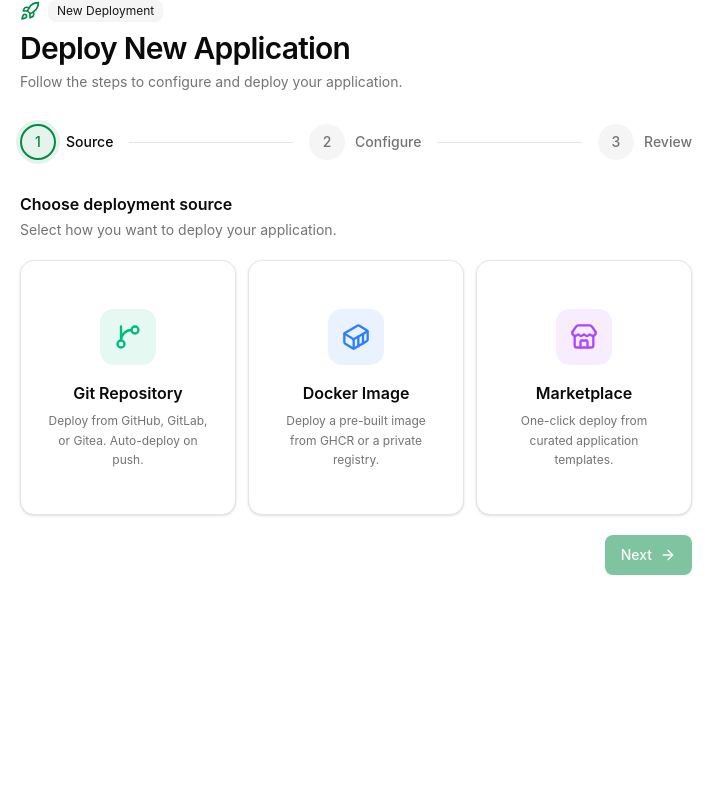
DeployWizard page › renders the review summary on step 3 with the values entered in step 2
The width and height of the screenshot is (713, 800).
Click the text "Git Repository" at (128, 393), box left=73, top=383, right=183, bottom=403
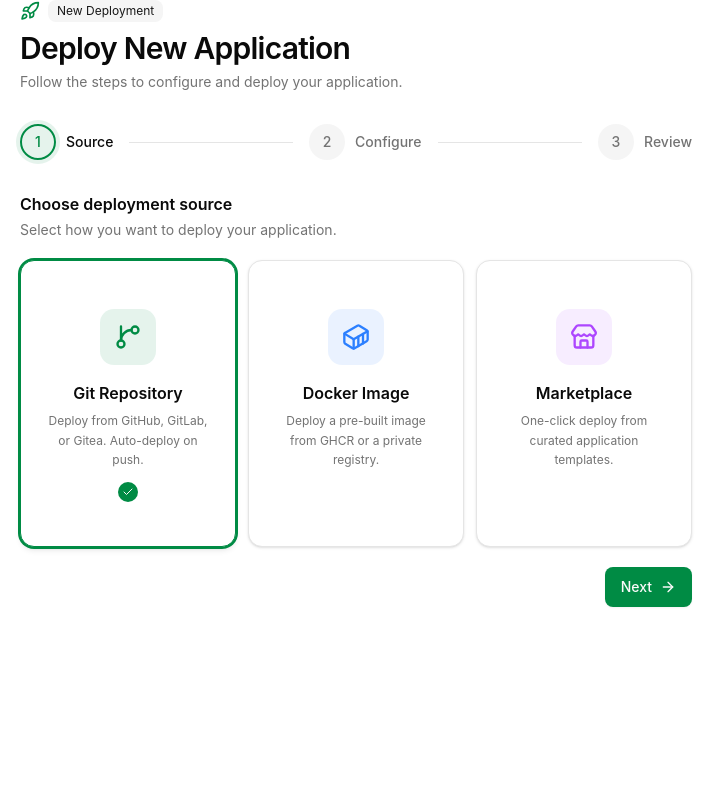
Click the button "Next" at (648, 586), box left=605, top=566, right=692, bottom=606
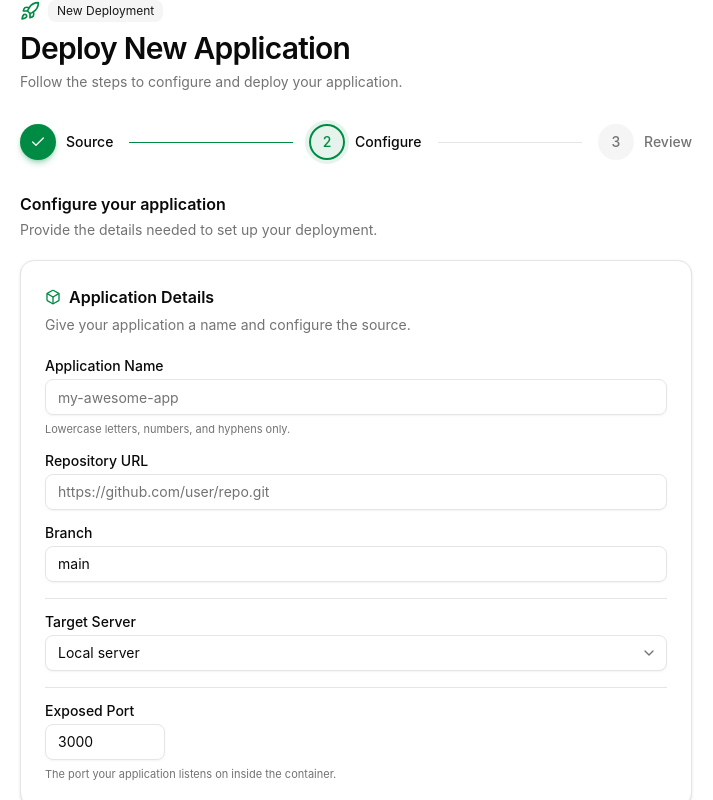
Type "review-app" into the field labelled "Application Name" at (356, 397), box left=45, top=379, right=667, bottom=415
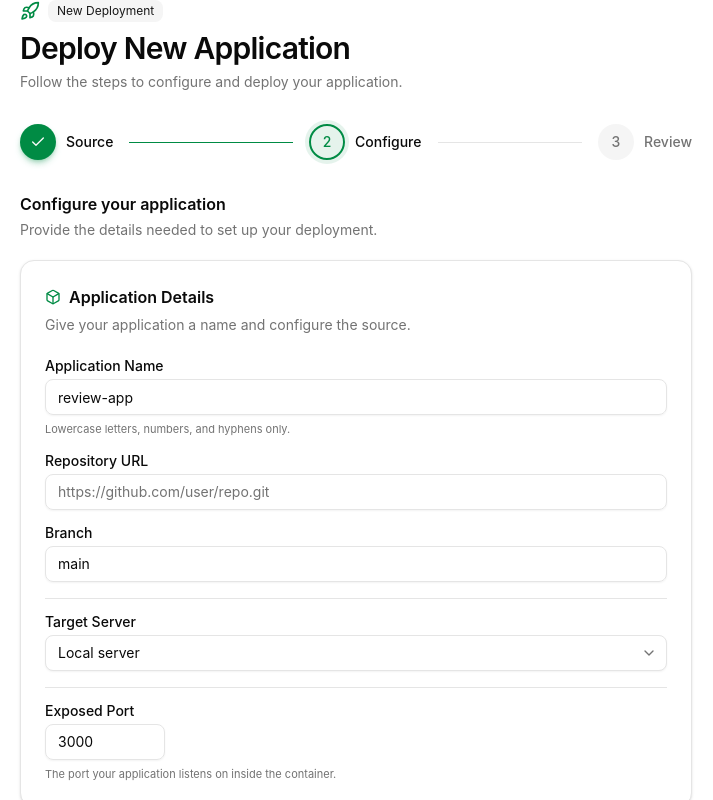
Type "https://github.com/example/review-app.git" into the field labelled "Repository URL" at (356, 492), box left=45, top=474, right=667, bottom=510
(page scrolled)
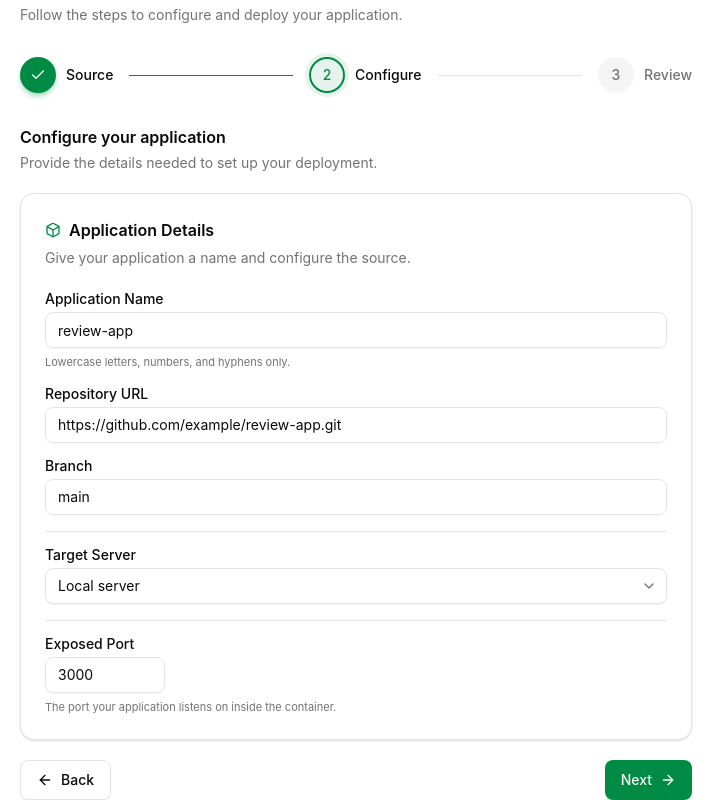
Click the button "Next" at (648, 780), box left=605, top=760, right=692, bottom=799
(page scrolled)
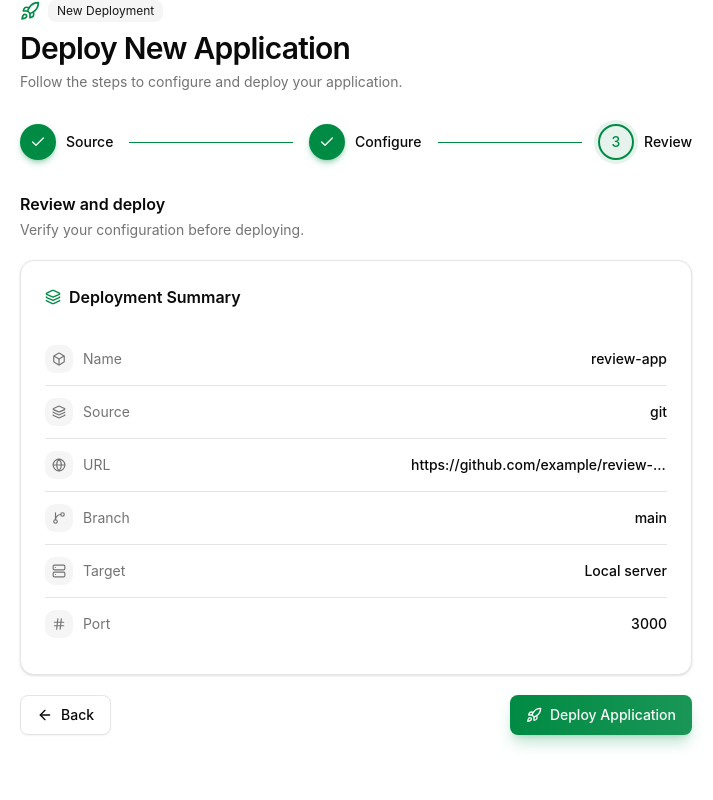
expect the heading "Review and deploy" is shown: met, box left=20, top=194, right=165, bottom=214
expect the text "review-app" is shown: met, box left=591, top=349, right=667, bottom=369
expect the text "git" is shown: met, box left=650, top=402, right=667, bottom=422
